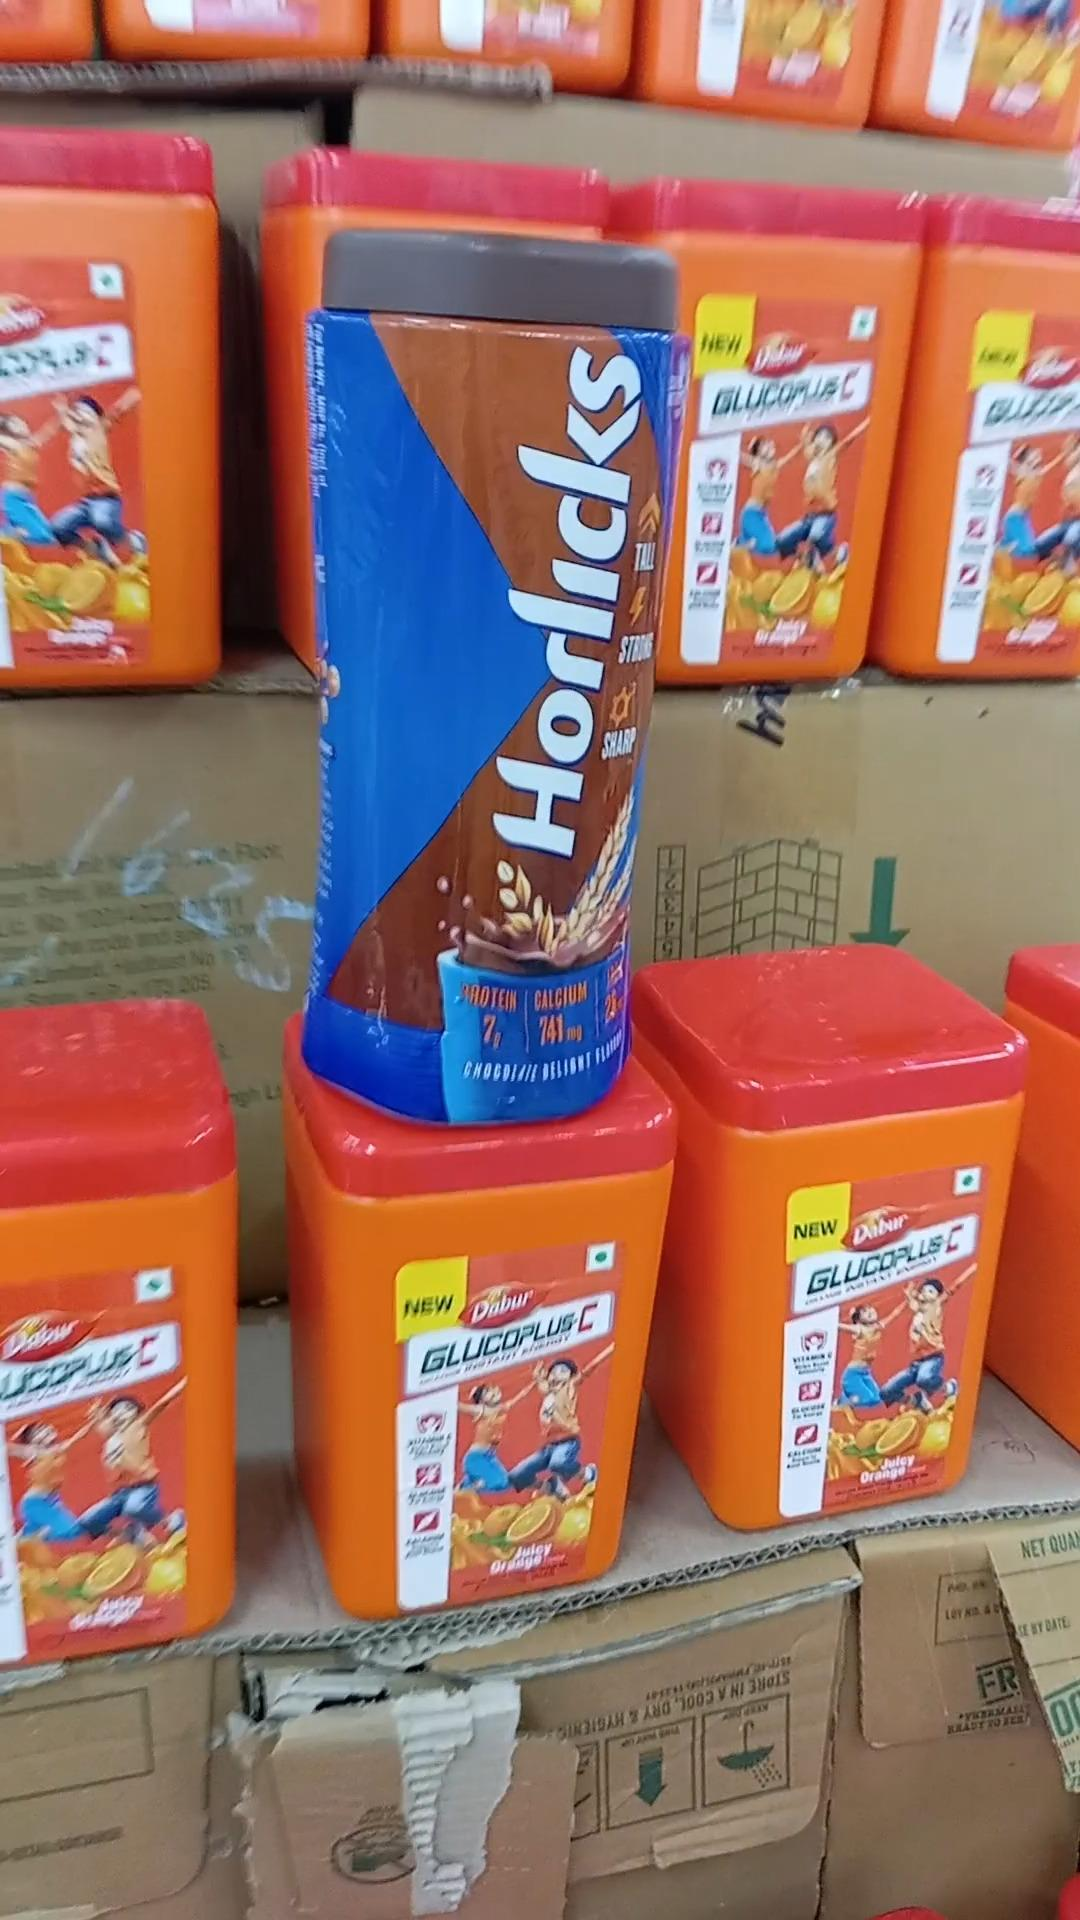HORLICK_CHOCOLATE_1_KG_JAR: (294, 232, 675, 1131)
